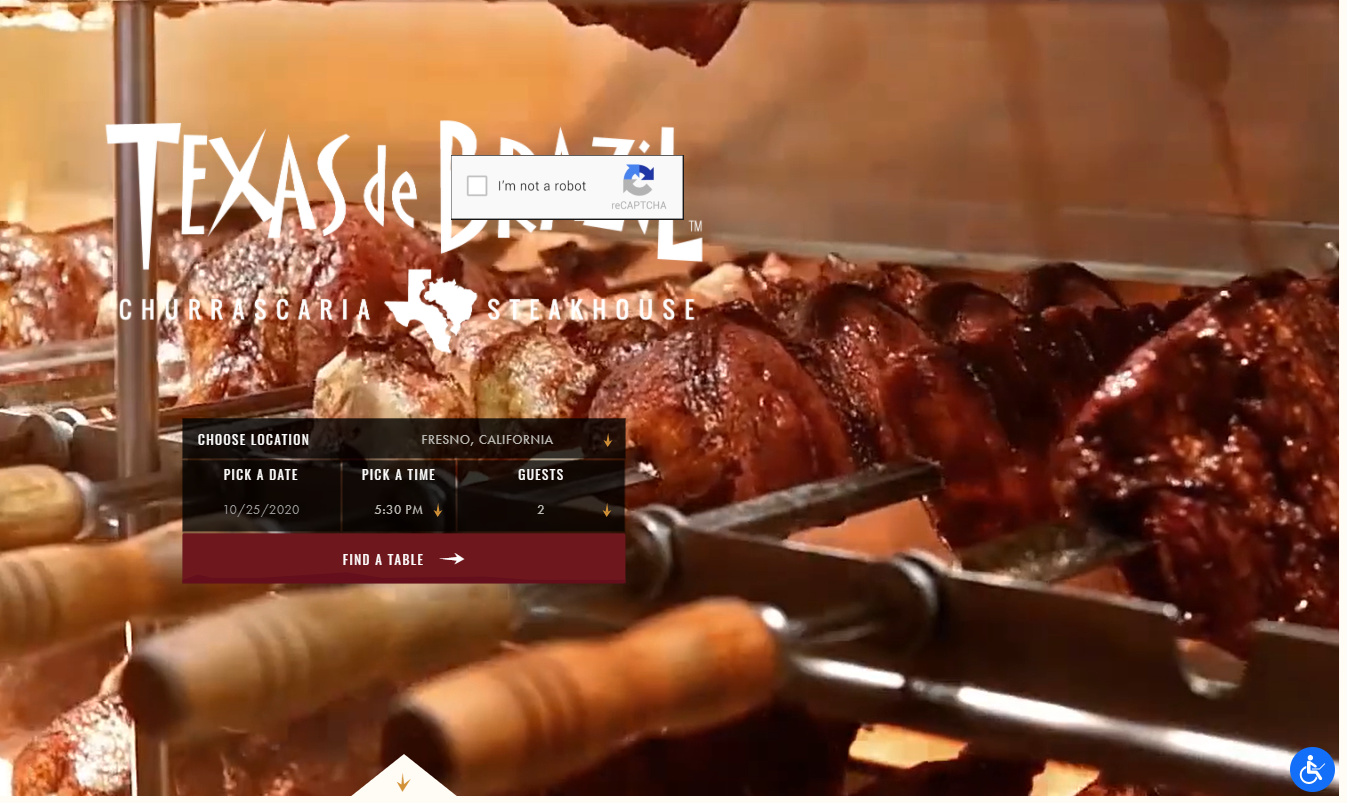captcha: (445, 149, 691, 223)
